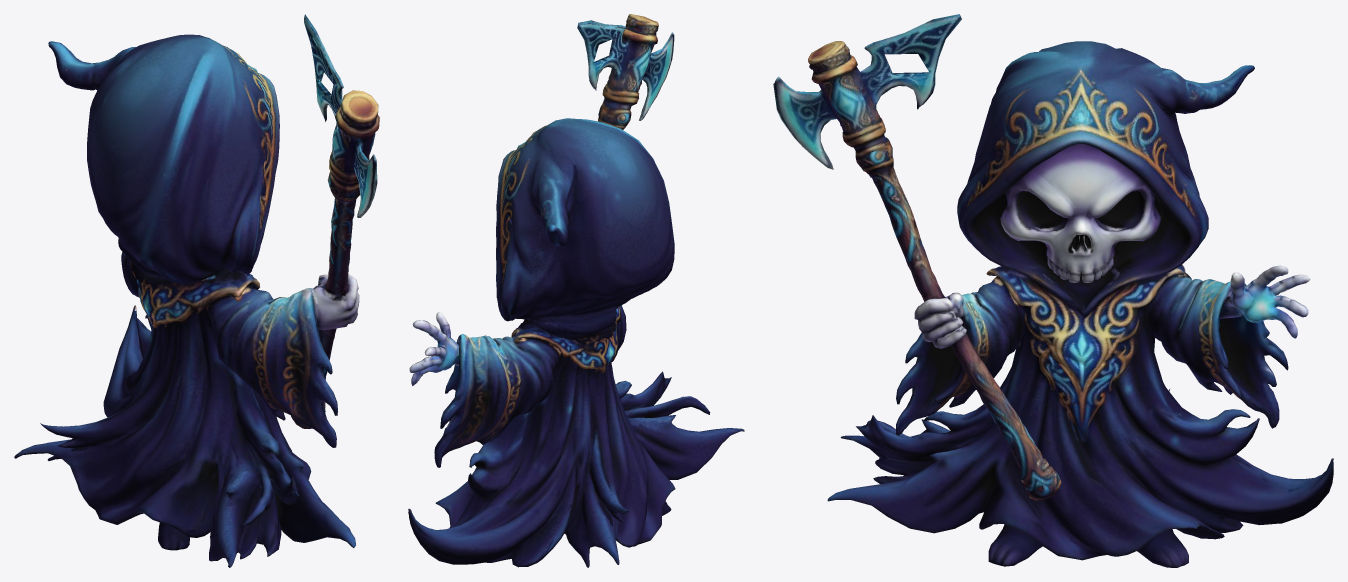
File: fantasy+wizard+3d+model.glb
The picture shows the model from 3 angles, left to right: view 1: azimuth 30°, elevation 25°; view 2: azimuth 150°, elevation 25°; view 3: azimuth 270°, elevation 25°; orthographic projection. The views are drawn at different scales.
Parts seen in each view (by area): view 1: tripo_node_bd11fb91-80aa-4644-b23a-dea0f1415f13; view 2: tripo_node_bd11fb91-80aa-4644-b23a-dea0f1415f13; view 3: tripo_node_bd11fb91-80aa-4644-b23a-dea0f1415f13.
Boxes of the visible parts, x1,y1,x2,y2 form: tripo_node_bd11fb91-80aa-4644-b23a-dea0f1415f13: (14,14,379,567); tripo_node_bd11fb91-80aa-4644-b23a-dea0f1415f13: (408,14,744,567); tripo_node_bd11fb91-80aa-4644-b23a-dea0f1415f13: (773,14,1333,567).
Bounding box in the file's own units: 0.4401 × 0.9777 × 0.926.
1 material, 1 textured.
